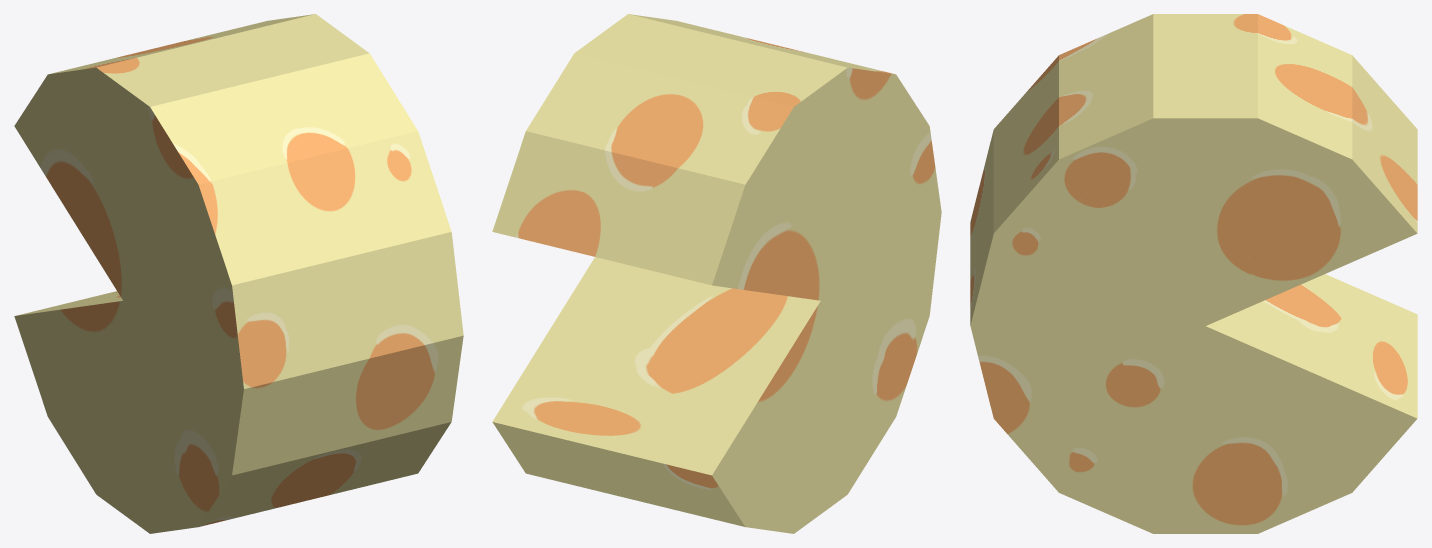
The model's file is prmCheese.fbx.
The picture shows the model from 3 angles, left to right: view 1: azimuth 30°, elevation 25°; view 2: azimuth 150°, elevation 25°; view 3: azimuth 270°, elevation 25°; orthographic projection. The views are drawn at different scales.
Parts seen in each view (by area): view 1: prmCheese; view 2: prmCheese; view 3: prmCheese.
Boxes of the visible parts, x1,y1,x2,y2 form: prmCheese: (14,14,463,533); prmCheese: (492,14,941,533); prmCheese: (970,14,1417,533).
Size of the model in its own units: 105 by 195 by 190.
Materials: 1 (1 with a texture image).
